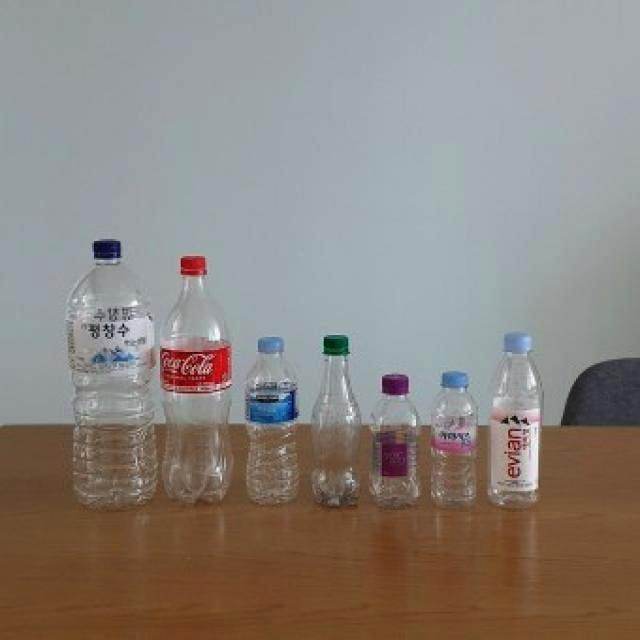bottle: (66, 241, 158, 507), (156, 256, 230, 505), (487, 333, 545, 510), (243, 336, 302, 507), (310, 335, 362, 508), (427, 373, 482, 505), (369, 375, 420, 508)
